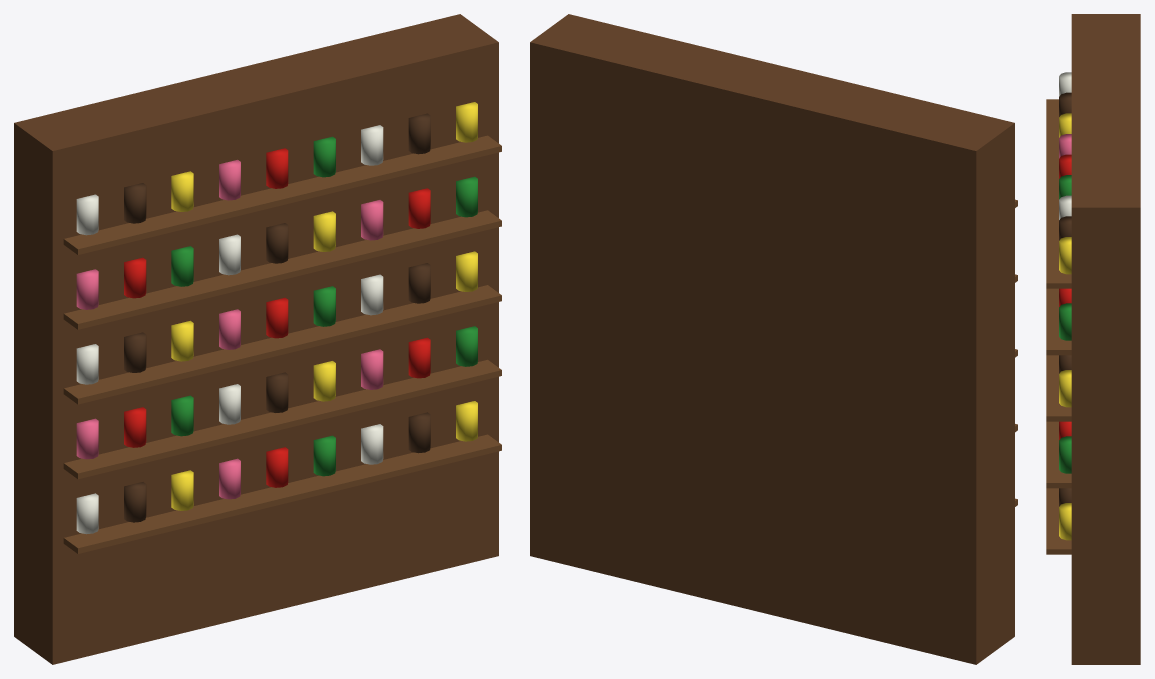
File: tea_shelf.glb
The picture shows the model from 3 angles, left to right: view 1: azimuth 30°, elevation 25°; view 2: azimuth 150°, elevation 25°; view 3: azimuth 270°, elevation 25°; orthographic projection. The views are drawn at different scales.
Visible parts, largest first — view 1: tea_shelf; view 2: tea_shelf; view 3: tea_shelf.
Boxes of the visible parts, <box> form: tea_shelf: <box>14,14,501,664</box>; tea_shelf: <box>530,14,1017,664</box>; tea_shelf: <box>1046,14,1140,664</box>.
Size of the model in its own units: 2 by 2.2 by 0.41.
1 material, 1 textured.
